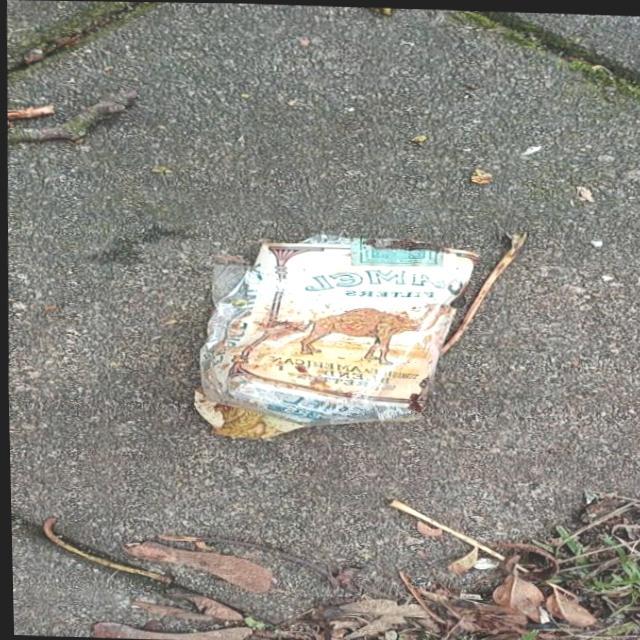Paper: (163, 221, 535, 452)
